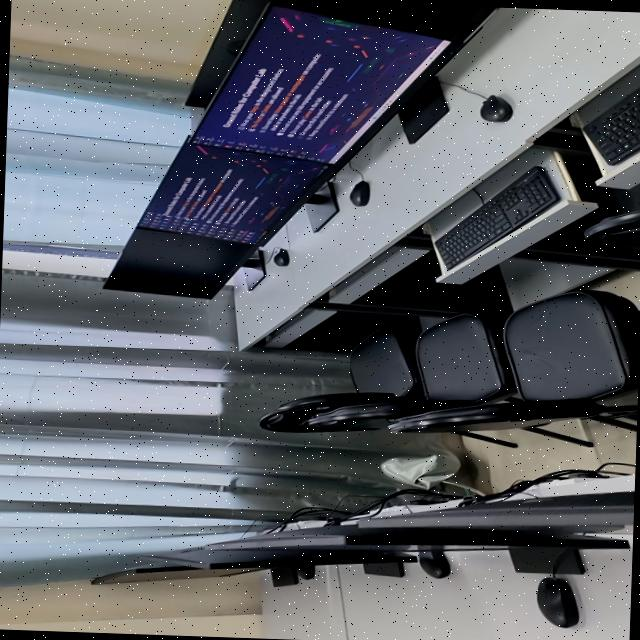Ac: (306, 313, 516, 429), (259, 328, 423, 432)
Chair: (388, 289, 640, 432), (304, 314, 516, 430), (259, 328, 421, 432), (584, 209, 640, 250)
Keyboard: (435, 165, 559, 268), (583, 86, 640, 163)
Monitor: (191, 3, 448, 162), (137, 142, 325, 244), (205, 524, 627, 552), (103, 226, 255, 298), (353, 491, 634, 528), (185, 0, 269, 106), (292, 0, 484, 39), (143, 546, 315, 584), (91, 566, 256, 583), (142, 565, 177, 570)
Mouse: (537, 576, 578, 626), (417, 544, 449, 577), (480, 94, 512, 120), (349, 180, 369, 205), (273, 248, 288, 265)
